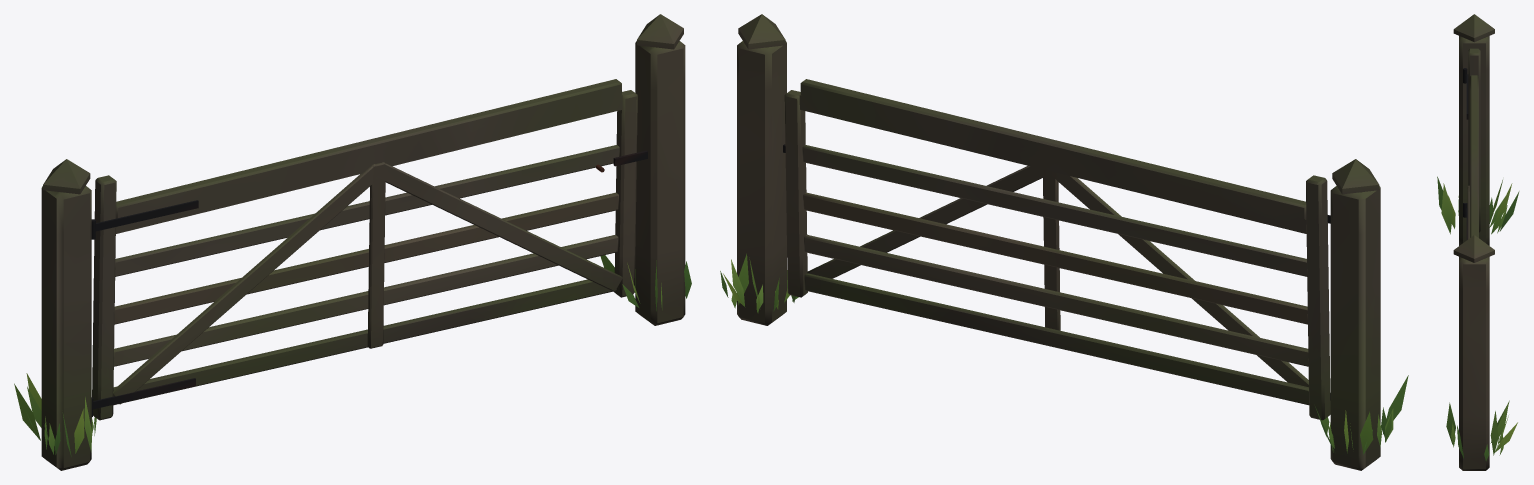
Rendered from gate.glb.
3 renders of one model, left to right at view 1: azimuth 30°, elevation 25°; view 2: azimuth 150°, elevation 25°; view 3: azimuth 270°, elevation 25°, orthographic. The views are drawn at different scales.
Parts seen in each view (by area): view 1: Body, Grass; view 2: Body, Grass; view 3: Body, Grass.
Part boxes in pixels (x1,y1,x2,y2): Body: [41, 14, 685, 470]; Grass: [14, 255, 691, 456]; Body: [737, 14, 1380, 470]; Grass: [720, 253, 1408, 454]; Body: [1453, 14, 1494, 470]; Grass: [1437, 176, 1519, 461].
Bounding box in the file's own units: 3.78 × 1.66 × 0.5353.
